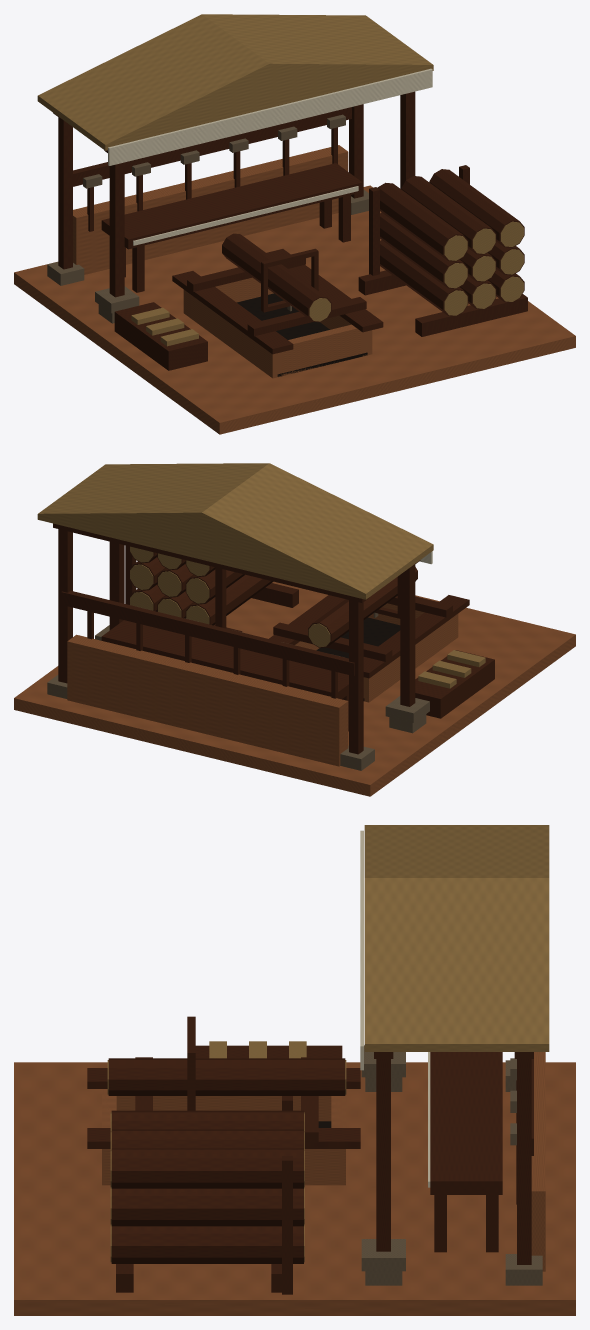
Rendered from Berber_Lumber_Age2.fbx.
3 views of the same model, one above another, from view 1: azimuth 30°, elevation 25°; view 2: azimuth 150°, elevation 25°; view 3: azimuth 270°, elevation 25° (orthographic). The views are drawn at different scales.
Visible parts, largest first — view 1: yard_foundation, covered_tool_roof, rear_low_masonry, tool_bench_top, owner_front_roof_valance, sawpit_work_log, offcut_sorting_bin, tool_rack_backrail, sorted_timber.006, pit_end, pit_side, pit_rim_plank (+22 smaller); view 2: covered_tool_roof, yard_foundation, rear_low_masonry, tool_bench_top, tool_rack_backrail, offcut_sorting_bin, shelter_post.001, shelter_post, pit_side, shelter_post.003, pit_rim_plank, sawpit_work_log (+15 smaller); view 3: yard_foundation, covered_tool_roof, tool_bench_top, sawpit_work_log, sorted_timber.008, sorted_timber.005, sorted_timber.002, sorted_timber.007, sorted_timber.006, shelter_post.003, shelter_post.002, rear_low_masonry (+13 smaller).
Boxes of the visible parts, left/top/right/bottom form: yard_foundation: left=14, top=185, right=575, bottom=434; covered_tool_roof: left=37, top=14, right=433, bottom=150; rear_low_masonry: left=73, top=145, right=348, bottom=274; tool_bench_top: left=101, top=163, right=362, bottom=249; owner_front_roof_valance: left=108, top=68, right=432, bottom=165; sawpit_work_log: left=222, top=233, right=331, bottom=322; offcut_sorting_bin: left=114, top=302, right=207, bottom=370; tool_rack_backrail: left=73, top=107, right=351, bottom=186; sorted_timber.006: left=377, top=182, right=468, bottom=261; pit_end: left=282, top=324, right=362, bottom=375; pit_side: left=183, top=289, right=282, bottom=378; pit_rim_plank: left=172, top=271, right=293, bottom=354; covered_tool_roof: left=37, top=463, right=433, bottom=599; yard_foundation: left=14, top=581, right=575, bottom=796; rear_low_masonry: left=67, top=634, right=348, bottom=766; tool_bench_top: left=101, top=620, right=348, bottom=699; tool_rack_backrail: left=61, top=590, right=354, bottom=675; offcut_sorting_bin: left=415, top=650, right=494, bottom=718; shelter_post.001: left=349, top=600, right=363, bottom=754; shelter_post: left=400, top=564, right=415, bottom=706; pit_side: left=363, top=614, right=458, bottom=702; shelter_post.003: left=58, top=529, right=72, bottom=683; pit_rim_plank: left=363, top=595, right=469, bottom=678; sawpit_work_log: left=308, top=567, right=417, bottom=647; yard_foundation: left=14, top=1062, right=575, bottom=1315; covered_tool_roof: left=364, top=825, right=549, bottom=1051; tool_bench_top: left=430, top=1052, right=502, bottom=1194; sawpit_work_log: left=108, top=1058, right=345, bottom=1095; sorted_timber.008: left=111, top=1148, right=303, bottom=1188; sorted_timber.005: left=111, top=1188, right=303, bottom=1226; sorted_timber.002: left=111, top=1226, right=303, bottom=1263; sorted_timber.007: left=111, top=1129, right=303, bottom=1148; sorted_timber.006: left=111, top=1110, right=303, bottom=1129; shelter_post.003: left=517, top=1059, right=531, bottom=1264; shelter_post.002: left=376, top=1059, right=390, bottom=1251; rear_low_masonry: left=531, top=1052, right=545, bottom=1271.
Size of the model in its own units: 380 by 238 by 380.
6 materials, 6 textured.
